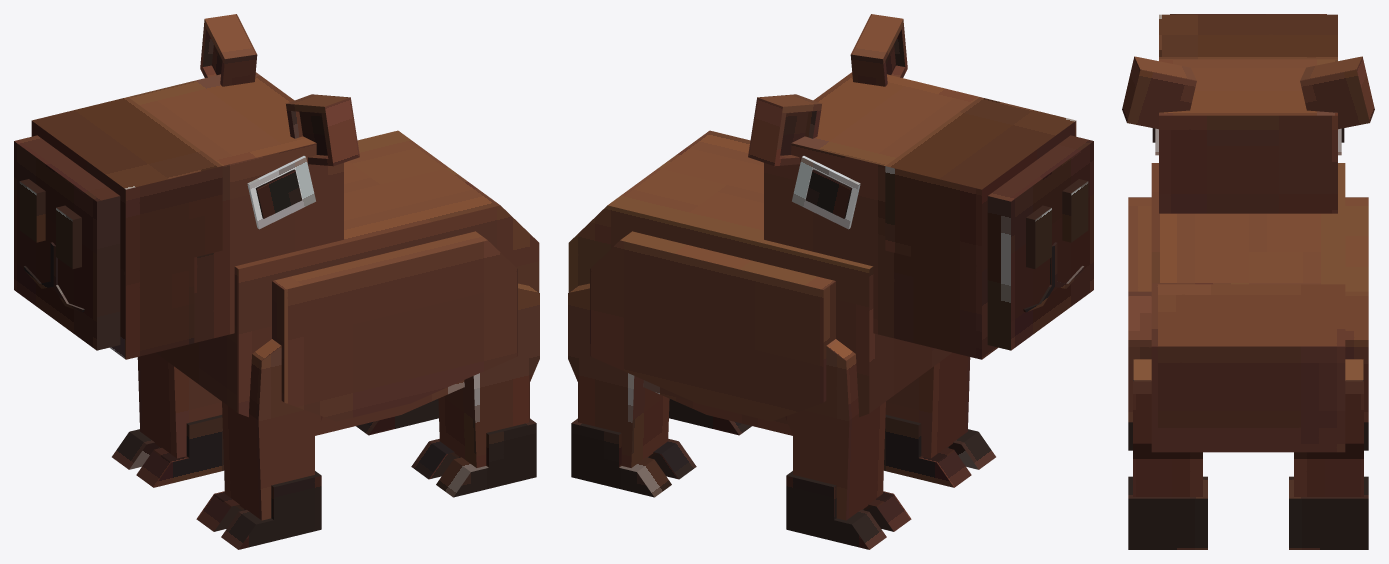
Rendered from animal_capybara.obj.
The picture shows the model from 3 angles, left to right: view 1: azimuth 30°, elevation 25°; view 2: azimuth 150°, elevation 25°; view 3: azimuth 270°, elevation 25°; orthographic projection. The views are drawn at different scales.
Visible parts, largest first — view 1: animal_capybara; view 2: animal_capybara; view 3: animal_capybara.
Part boxes in pixels (x1,y1,x2,y2): animal_capybara: (14, 14, 539, 549); animal_capybara: (568, 14, 1093, 549); animal_capybara: (1122, 14, 1374, 549).
Bounding box in the file's own units: 3.94 × 3.57 × 2.06.
1 material, 1 textured.
